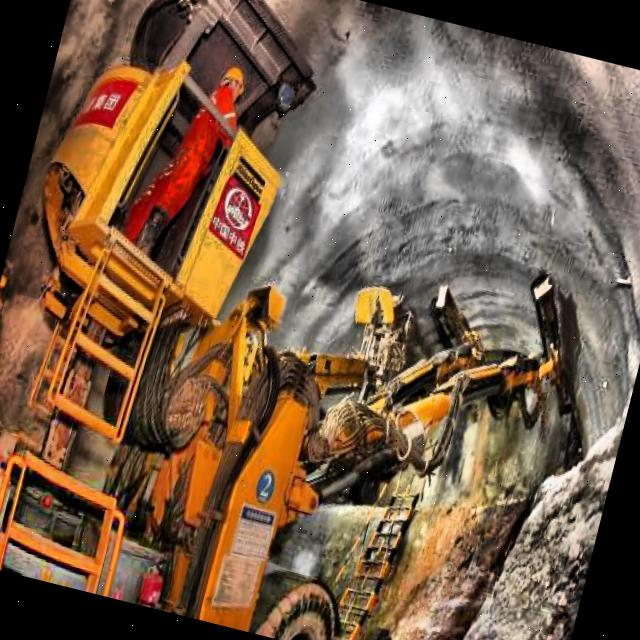helmet: (214, 60, 252, 109)
